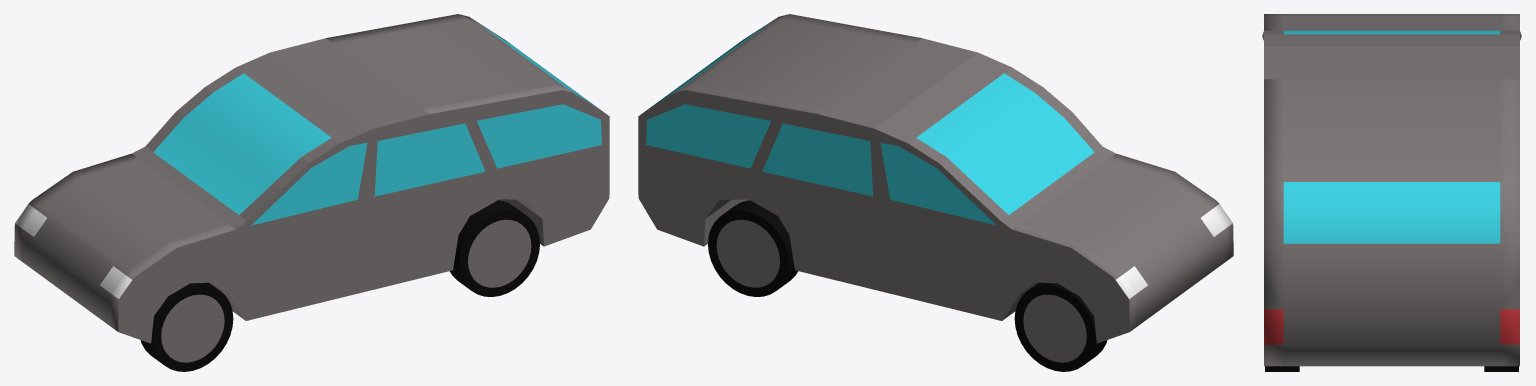
The model's file is car1_fbx.fbx.
3 renders of one model, left to right at view 1: azimuth 30°, elevation 25°; view 2: azimuth 150°, elevation 25°; view 3: azimuth 270°, elevation 25°, orthographic. The views are drawn at different scales.
Visible parts, largest first — view 1: Cube; view 2: Cube; view 3: Cube.
Part boxes in pixels (x1=…): Cube: x1=14, y1=14, x2=609, y2=371; Cube: x1=638, y1=14, x2=1233, y2=371; Cube: x1=1262, y1=14, x2=1521, y2=371.
Bounding box in the file's own units: 382 × 148 × 142.
